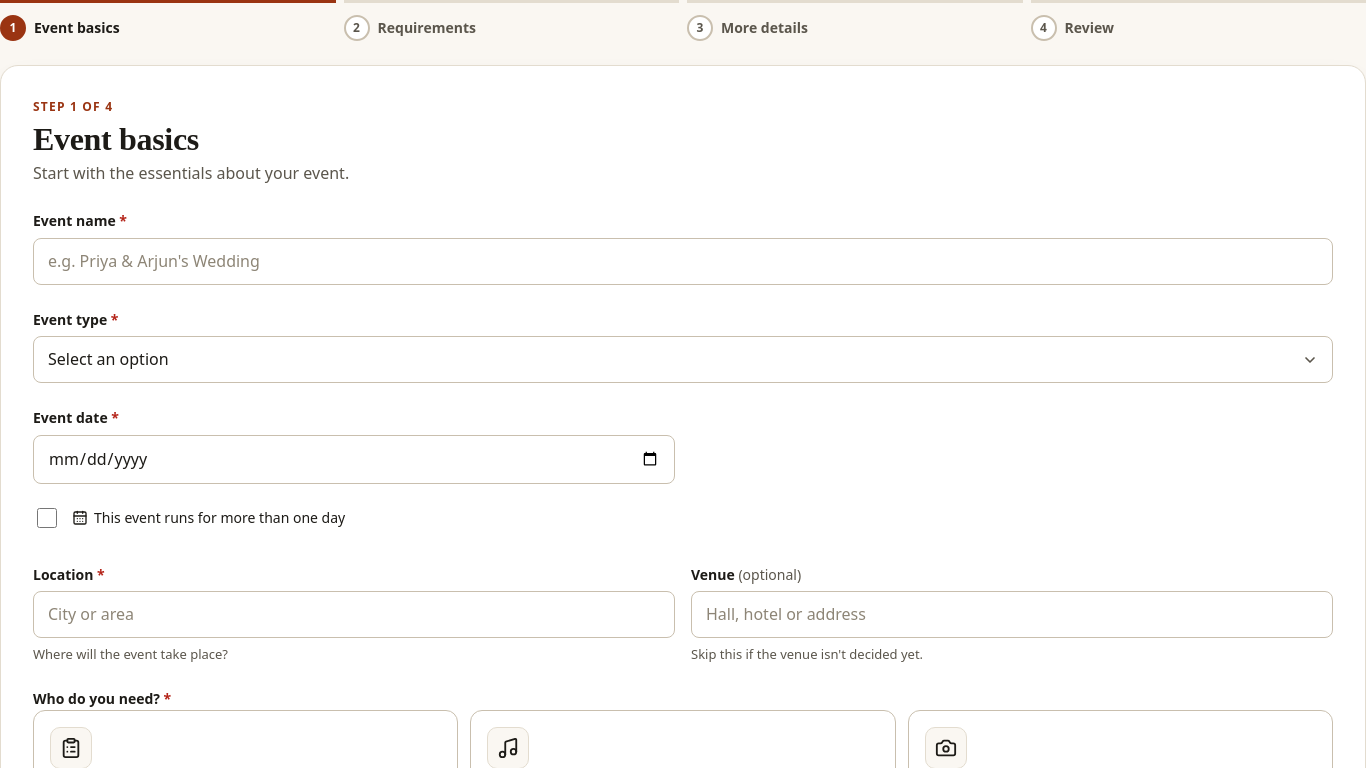
Test: RequirementWizard › steps 2 and 3 adapt to Event Planner
This screenshot has width=1366, height=768.
Step 1. Type "Wedding Celebration" into the field labelled "Event name *" → (683, 261), box [33,238,1333,285]
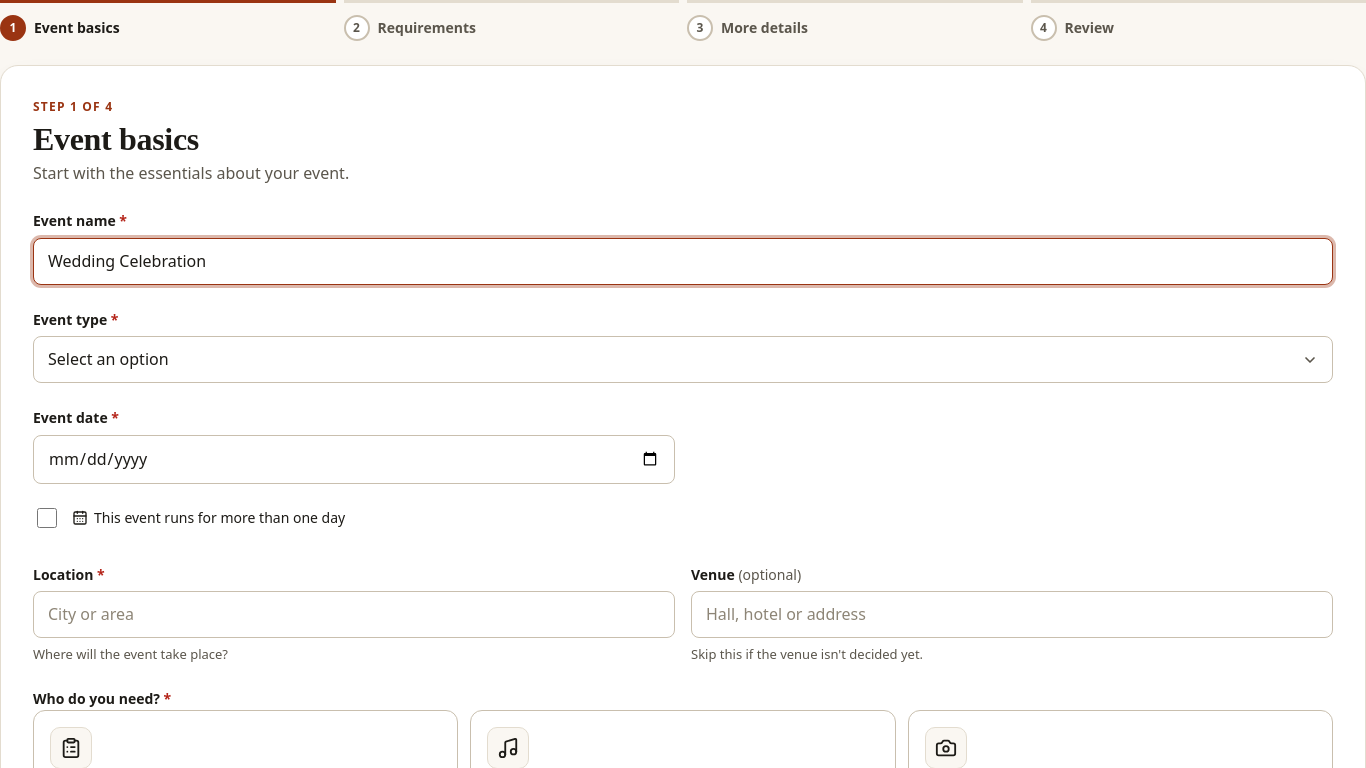
Step 2. Select "Wedding" in the dropdown labelled "Event type *" → (683, 360), box [33,336,1333,383]
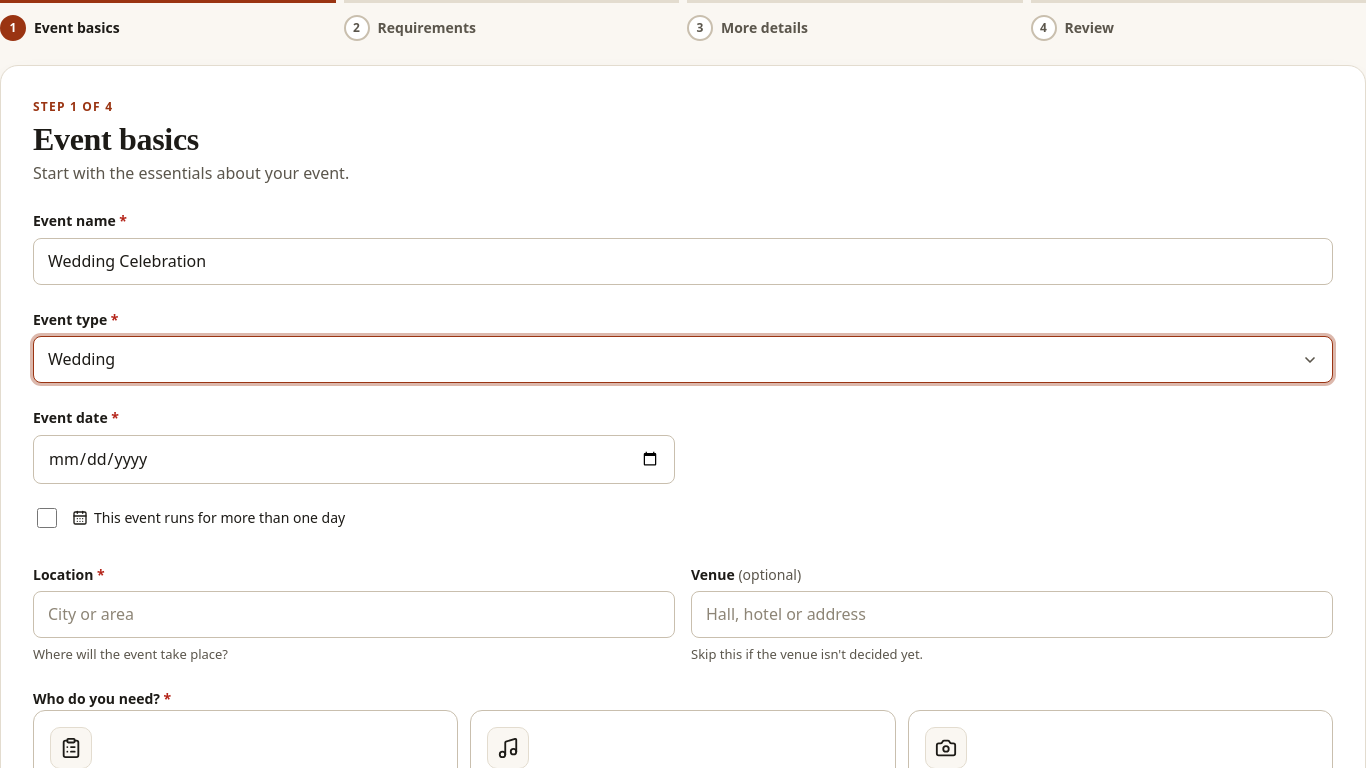
Step 3. Type "2026-12-15" into the date field labelled "Event date *" → (354, 459), box [33,435,675,484]
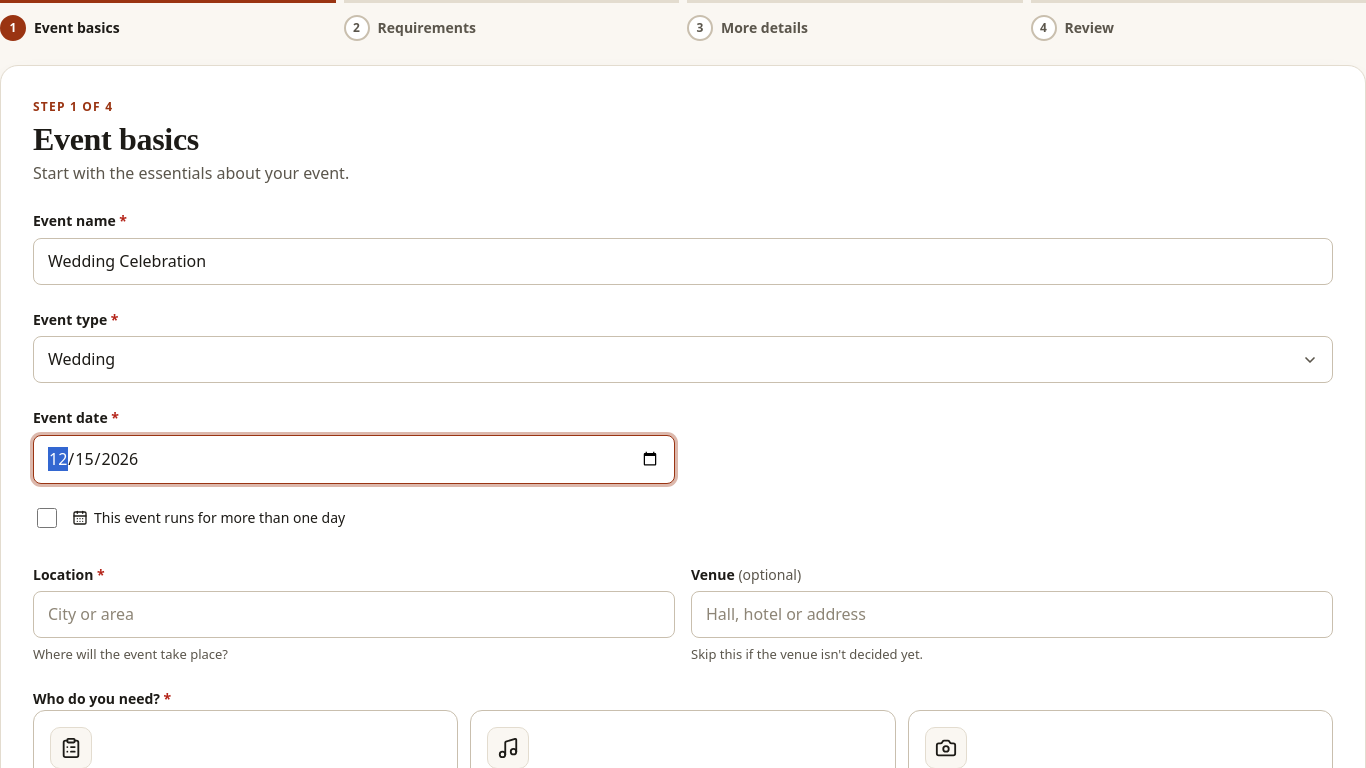
Step 4. Type "Hyderabad" into the field labelled "Location *" → (354, 615), box [33,591,675,638]
(page scrolled)
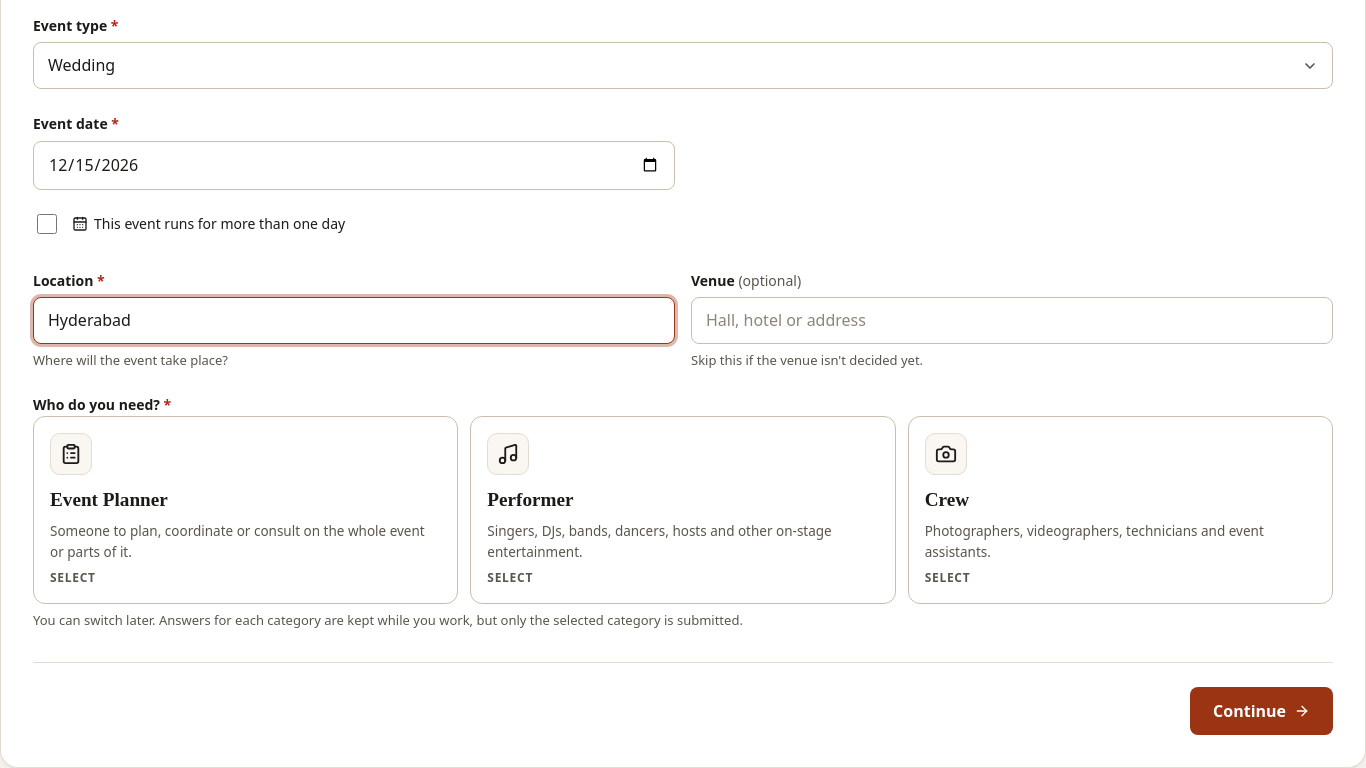
Step 5. Click the radio button labelled "Event Planner" → (71, 454), box [33,416,458,604]
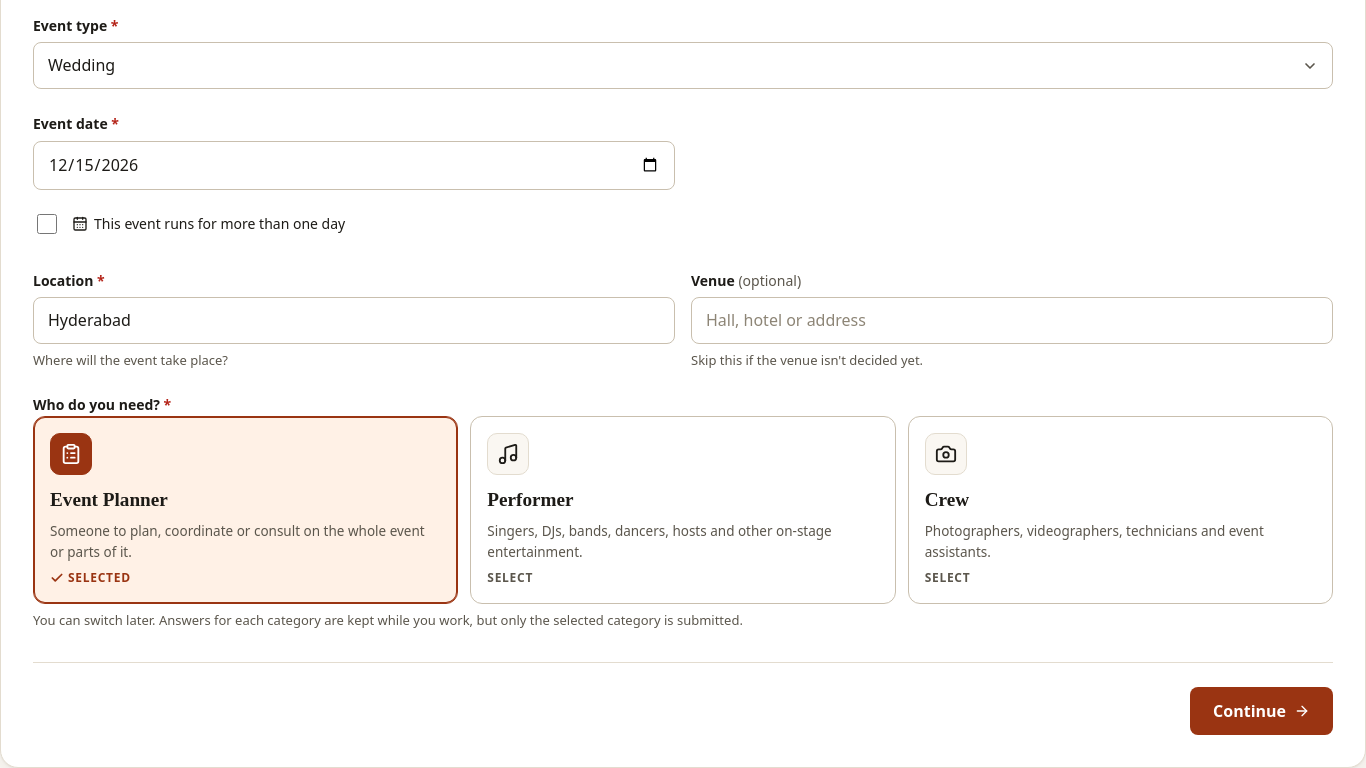
Step 6. Click the button "Continue" → (1262, 711), box [1190,687,1333,735]
(page scrolled)
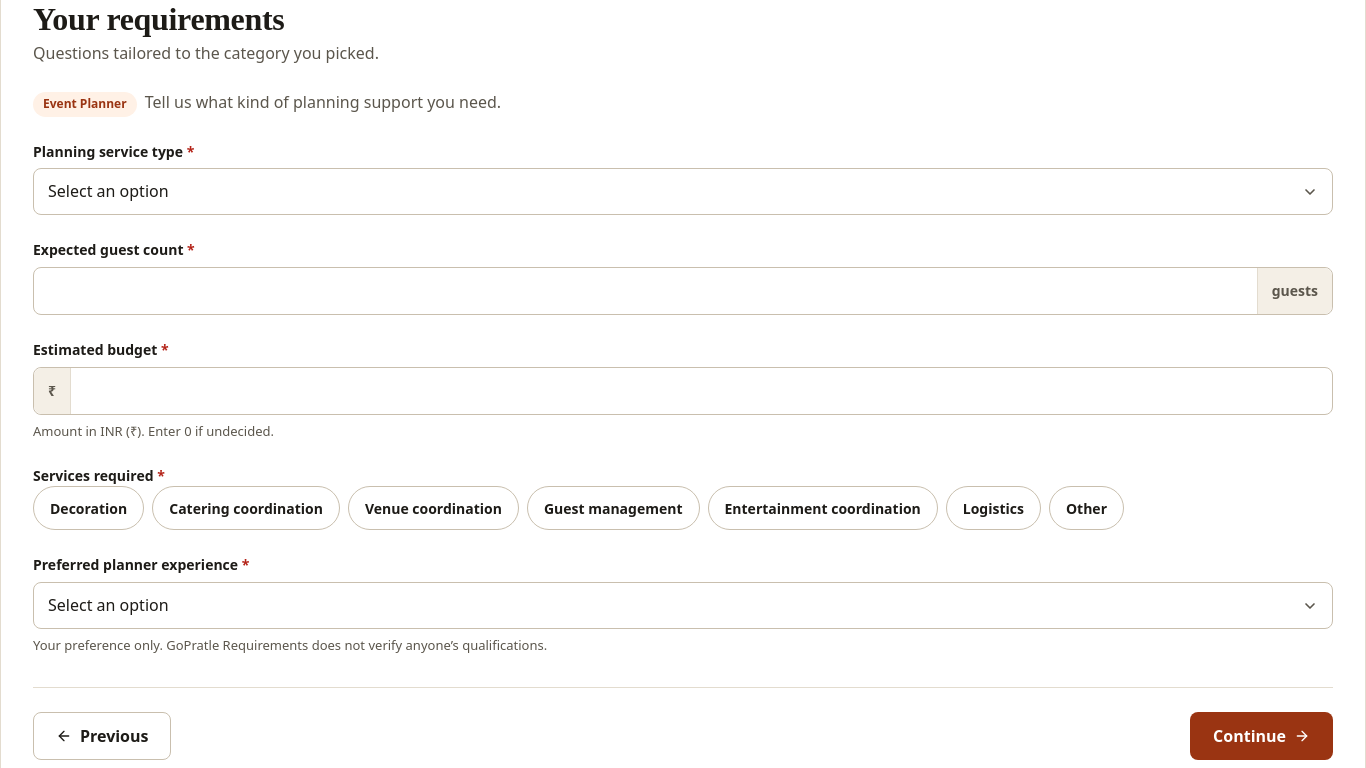
Expected: the dropdown labelled "Planning service type *" is shown, [33,168,1333,215]
